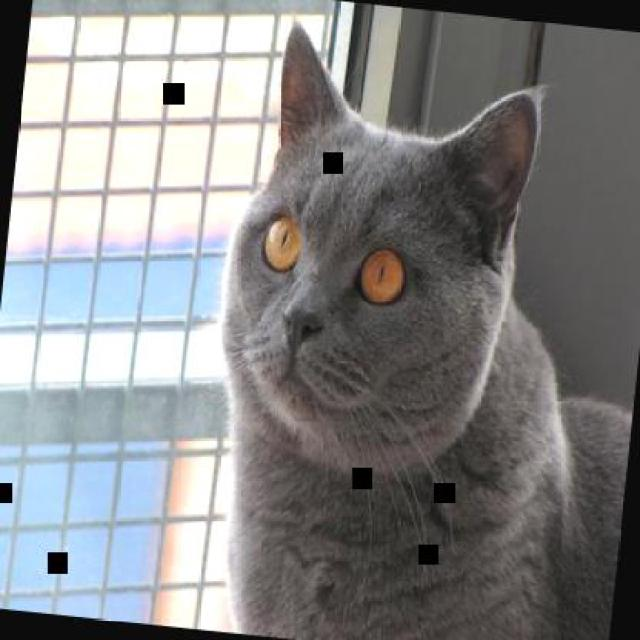cat: (184, 12, 638, 638)
